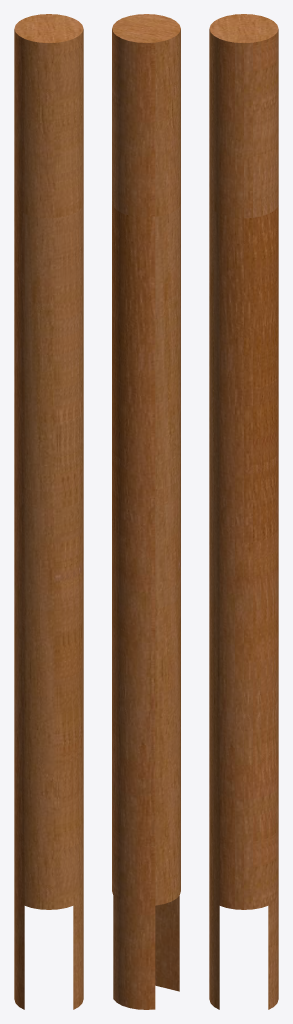
Rendered from original-46.obj.
3 renders of one model, left to right at view 1: azimuth 90°, elevation 25°; view 2: azimuth 150°, elevation 25°; view 3: azimuth 270°, elevation 25°, orthographic.
Visible parts, largest first — view 1: STRUT3/STRUT/mesh2/mesh2-geometry#mesh2-geometry; view 2: STRUT3/STRUT/mesh2/mesh2-geometry#mesh2-geometry; view 3: STRUT3/STRUT/mesh2/mesh2-geometry#mesh2-geometry.
Boxes of the visible parts, x1=… form: STRUT3/STRUT/mesh2/mesh2-geometry#mesh2-geometry: x1=14, y1=14, x2=83, y2=1009; STRUT3/STRUT/mesh2/mesh2-geometry#mesh2-geometry: x1=112, y1=14, x2=180, y2=1009; STRUT3/STRUT/mesh2/mesh2-geometry#mesh2-geometry: x1=209, y1=14, x2=278, y2=1009.
Bounding box in the file's own units: 0.0304 × 0.4715 × 0.0304.
